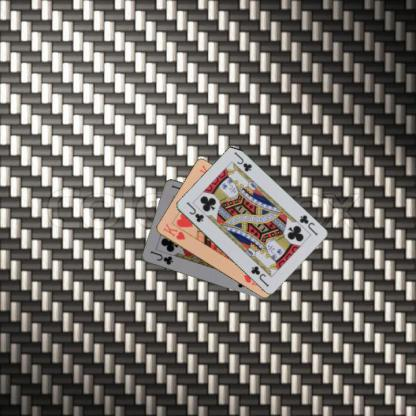Jc: (296, 212, 318, 237), (184, 199, 205, 224), (147, 248, 174, 266)
Kh: (160, 221, 187, 241)
